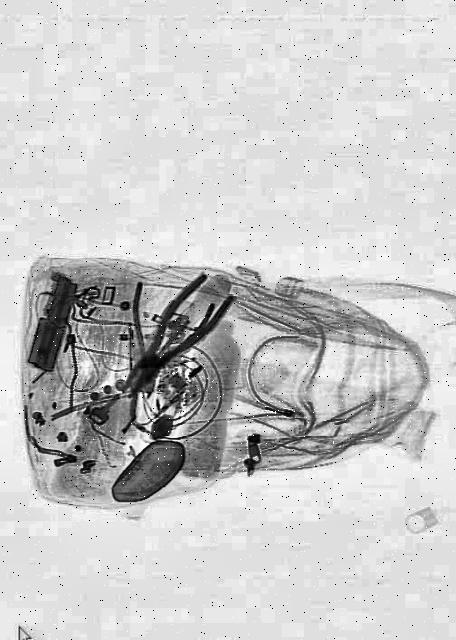Pliers: (110, 258, 234, 418), (100, 255, 215, 411)
